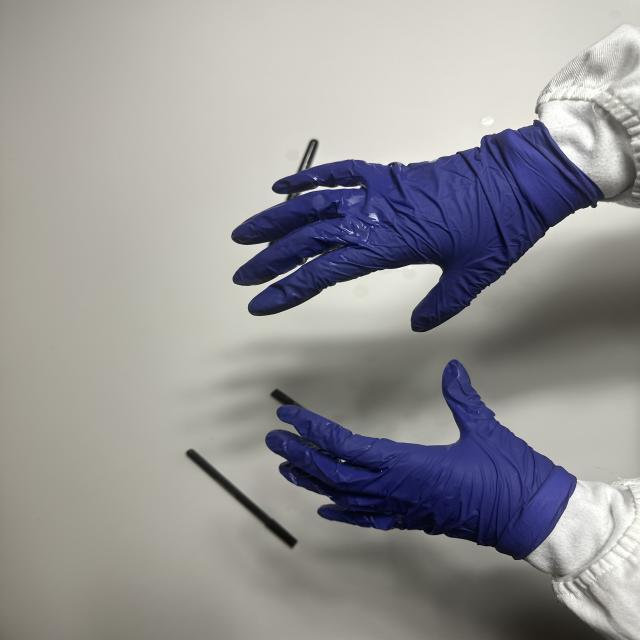gloves_contaminated: (232, 122, 601, 331), (266, 360, 576, 560)
